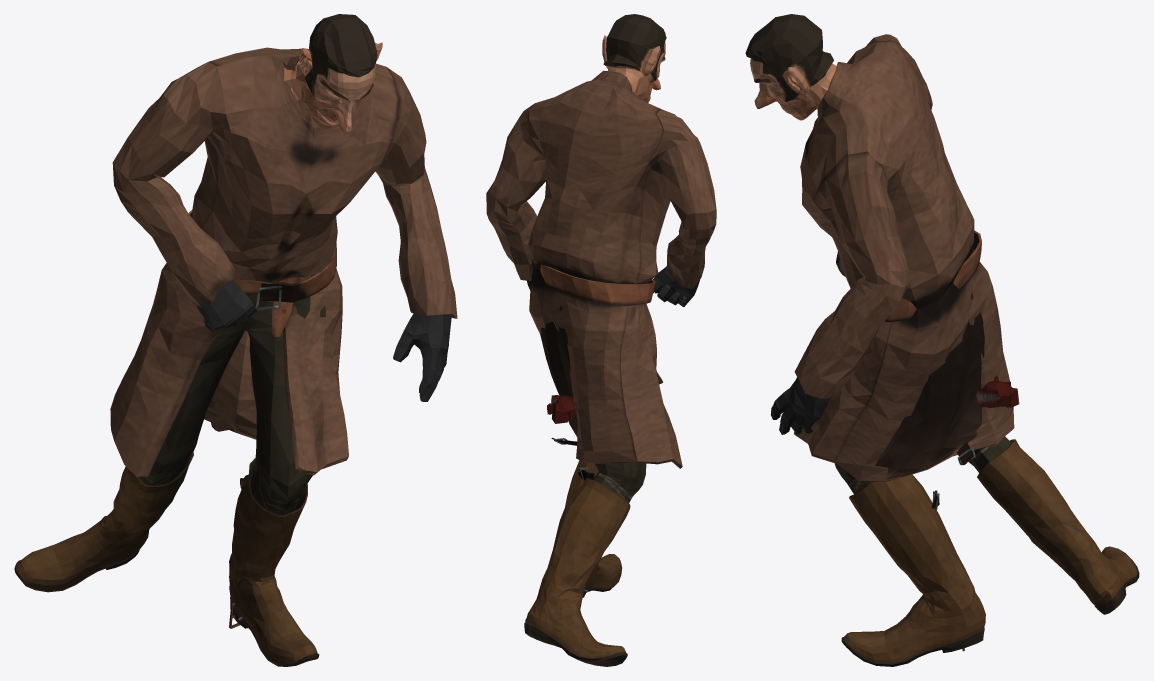
Rendered from sniper-inj-walk_joined_000021.obj.
3 views of the same model, side by side, from view 1: azimuth 30°, elevation 25°; view 2: azimuth 150°, elevation 25°; view 3: azimuth 270°, elevation 25° (orthographic). The views are drawn at different scales.
Visible parts, largest first — view 1: Shoes; view 2: Shoes; view 3: Shoes.
Part boxes in pixels (x1,y1,x2,y2): Shoes: [14, 14, 457, 666]; Shoes: [486, 14, 716, 666]; Shoes: [745, 14, 1139, 666].
Bounding box in the file's own units: 1.09 × 2.36 × 1.32.
